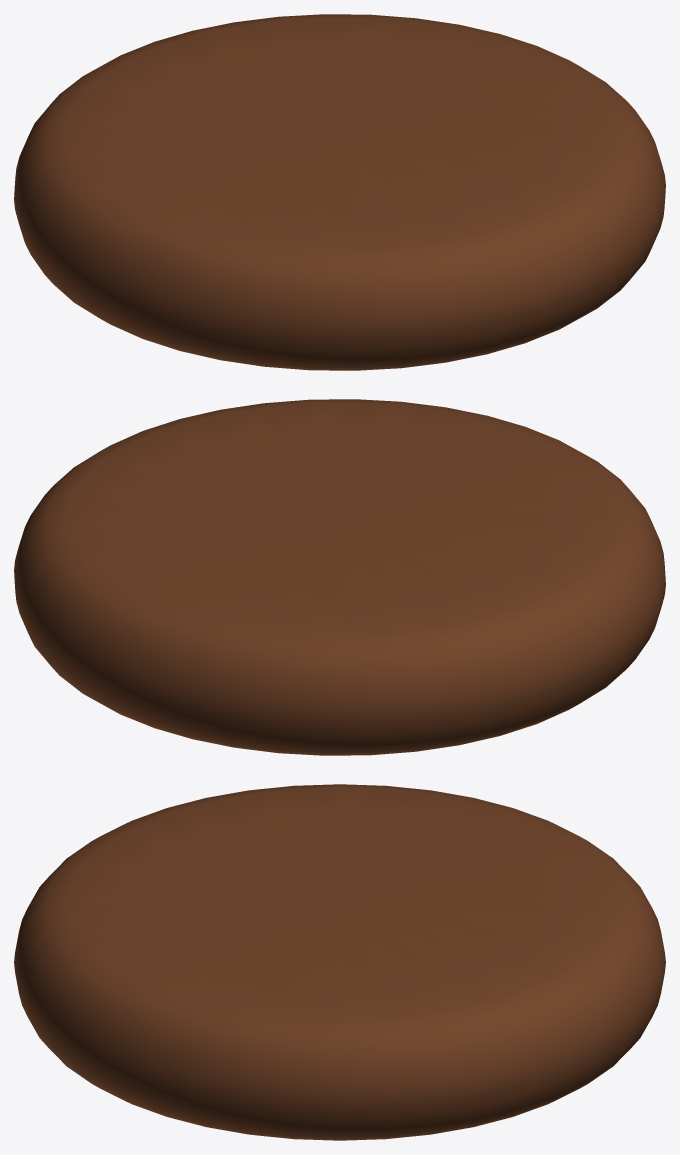
File: food_patty_cooked.glb
3 renders of one model, top to bottom at view 1: azimuth 30°, elevation 25°; view 2: azimuth 150°, elevation 25°; view 3: azimuth 270°, elevation 25°, orthographic.
Visible parts, largest first — view 1: patty_cooked; view 2: patty_cooked; view 3: patty_cooked.
Boxes of the visible parts, x1=… form: patty_cooked: x1=14, y1=14, x2=665, y2=370; patty_cooked: x1=14, y1=399, x2=665, y2=755; patty_cooked: x1=14, y1=784, x2=665, y2=1140.
Bounding box in the file's own units: 0.3734 × 0.0797 × 0.3734.
